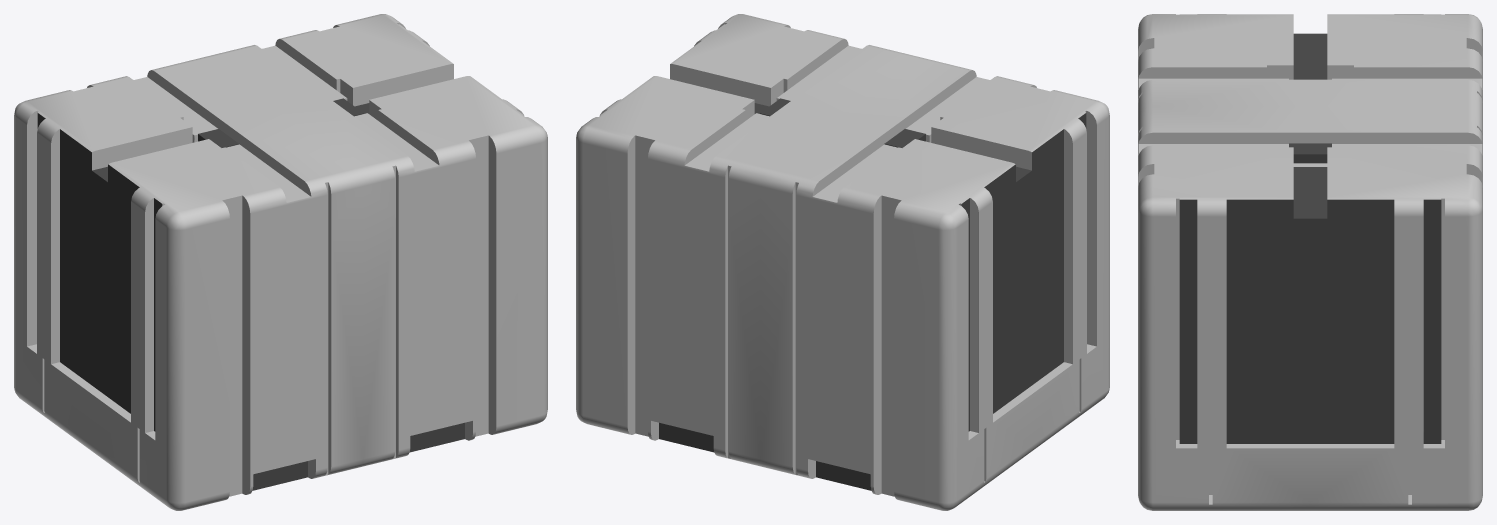
Rendered from crate_b.glb.
The picture shows the model from 3 angles, left to right: view 1: azimuth 30°, elevation 25°; view 2: azimuth 150°, elevation 25°; view 3: azimuth 270°, elevation 25°; orthographic projection. The views are drawn at different scales.
Parts seen in each view (by area): view 1: Crate_B; view 2: Crate_B; view 3: Crate_B.
Boxes of the visible parts, box(x1,y1,x2,y2) form: Crate_B: box(14, 14, 547, 510); Crate_B: box(576, 14, 1109, 510); Crate_B: box(1138, 14, 1482, 510).
Bounding box in the file's own units: 1.6 × 1.2 × 1.2.
Materials: 1 (1 with a texture image).
